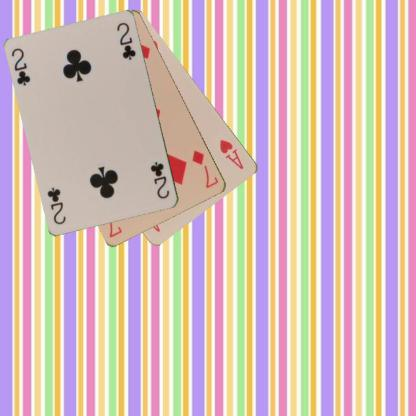2c: (148, 159, 171, 200), (9, 46, 32, 87)
7d: (190, 148, 220, 190)
Ah: (217, 137, 246, 170)
